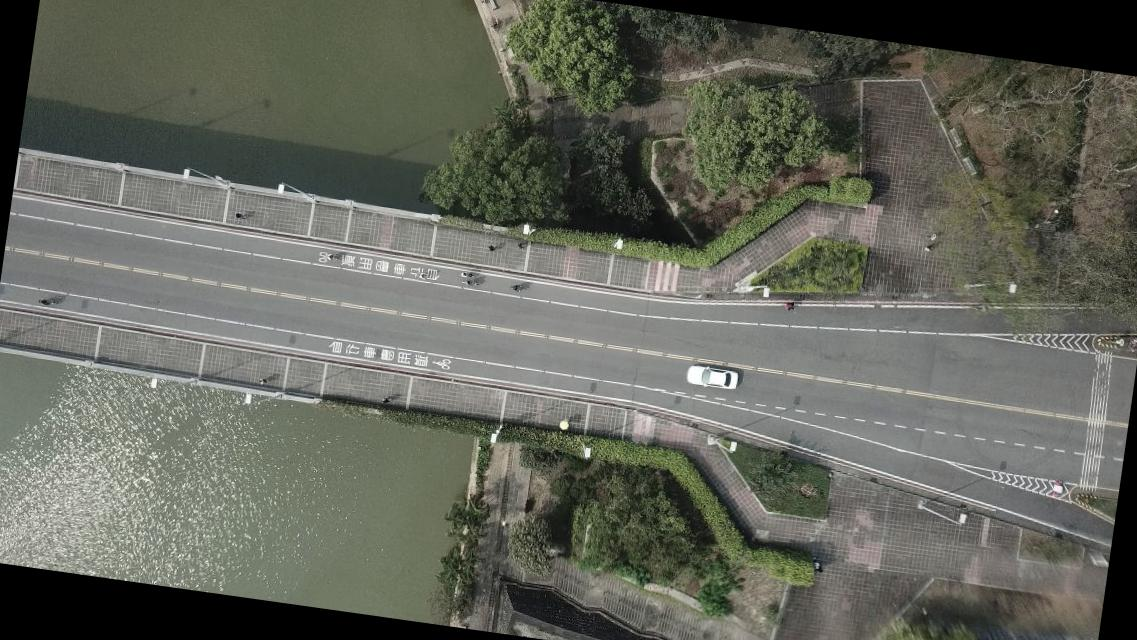vehicle: (686, 362, 740, 391)
